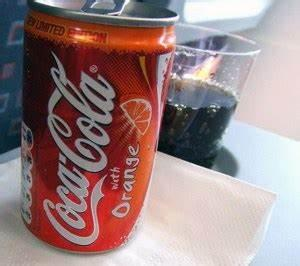metal: (21, 0, 178, 254)
